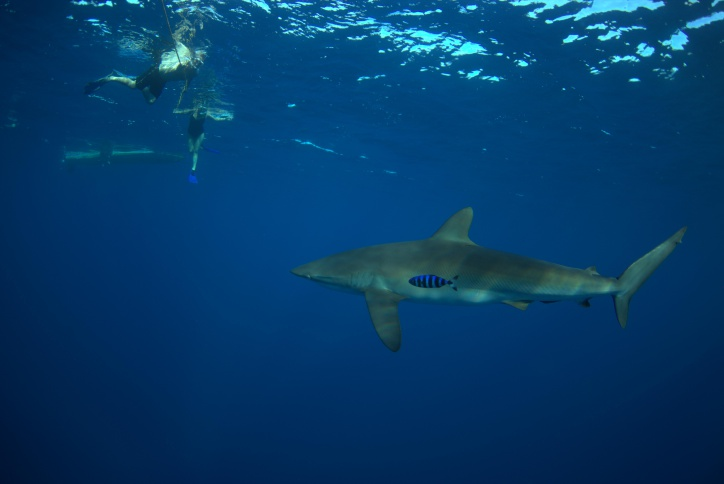Sedoso: (266, 196, 692, 353)
